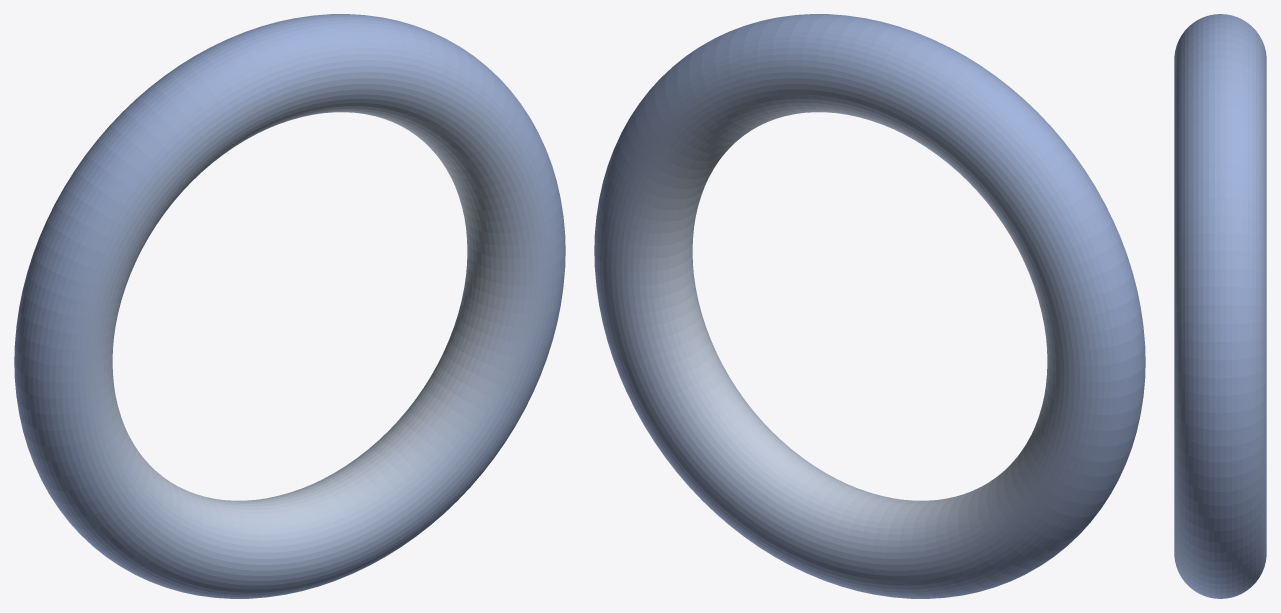
3 views of the same model, side by side, from view 1: azimuth 30°, elevation 25°; view 2: azimuth 150°, elevation 25°; view 3: azimuth 270°, elevation 25° (orthographic). The views are drawn at different scales.
Parts seen in each view (by area): view 1: world; view 2: world; view 3: world.
Boxes of the visible parts, x1,y1,x2,y2 form: world: (14, 14, 565, 598); world: (594, 14, 1145, 598); world: (1174, 14, 1266, 598).
Bounding box in the file's own units: 26.13 × 26.13 × 4.13.
